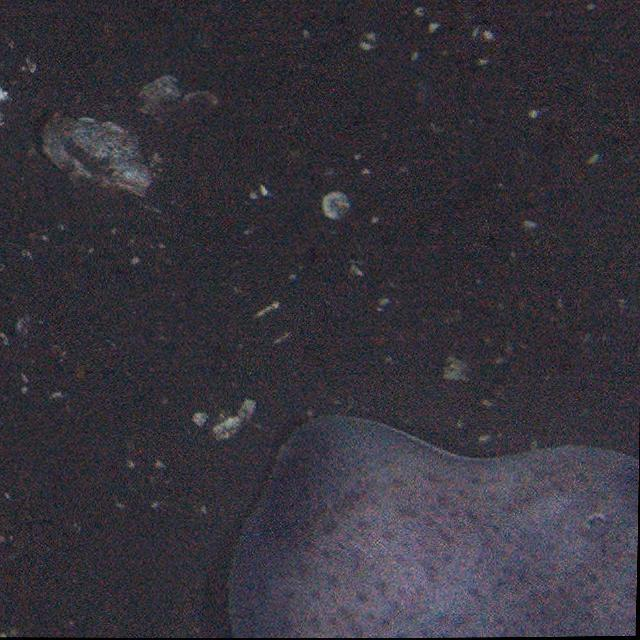skate: (233, 403, 636, 635)
